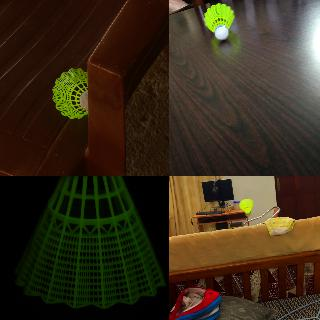shuttlecock: (13, 176, 165, 309), (52, 68, 88, 118), (203, 4, 234, 41), (239, 198, 253, 216)
